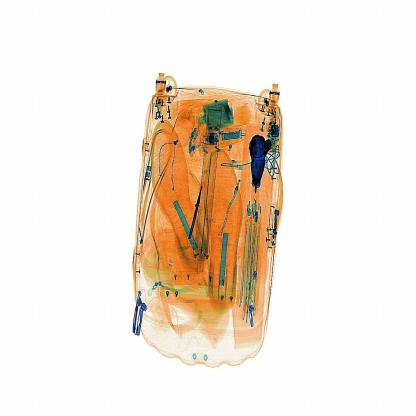gun: (185, 159, 219, 248)
